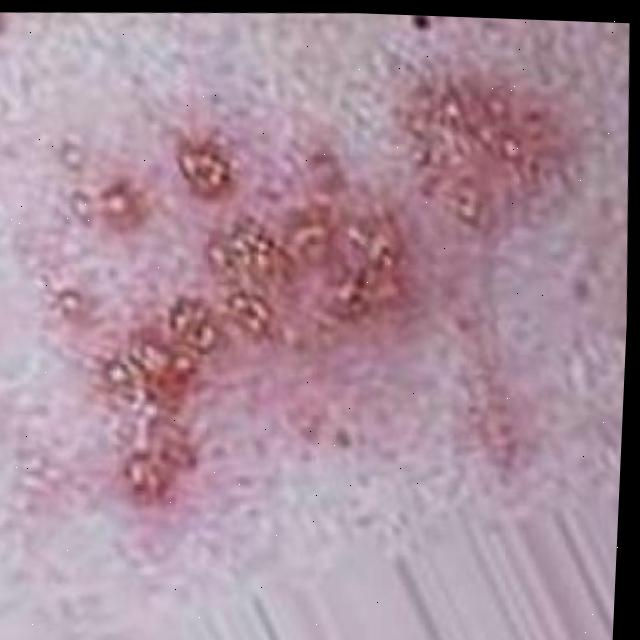Shingles: (12, 130, 424, 509), (383, 64, 583, 233)
